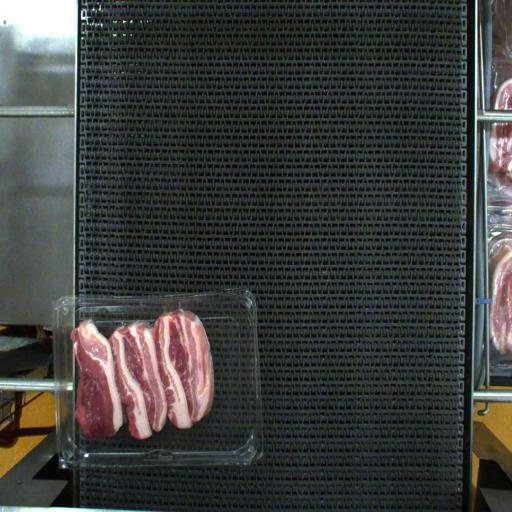packaging-error: (142, 292, 198, 324)
